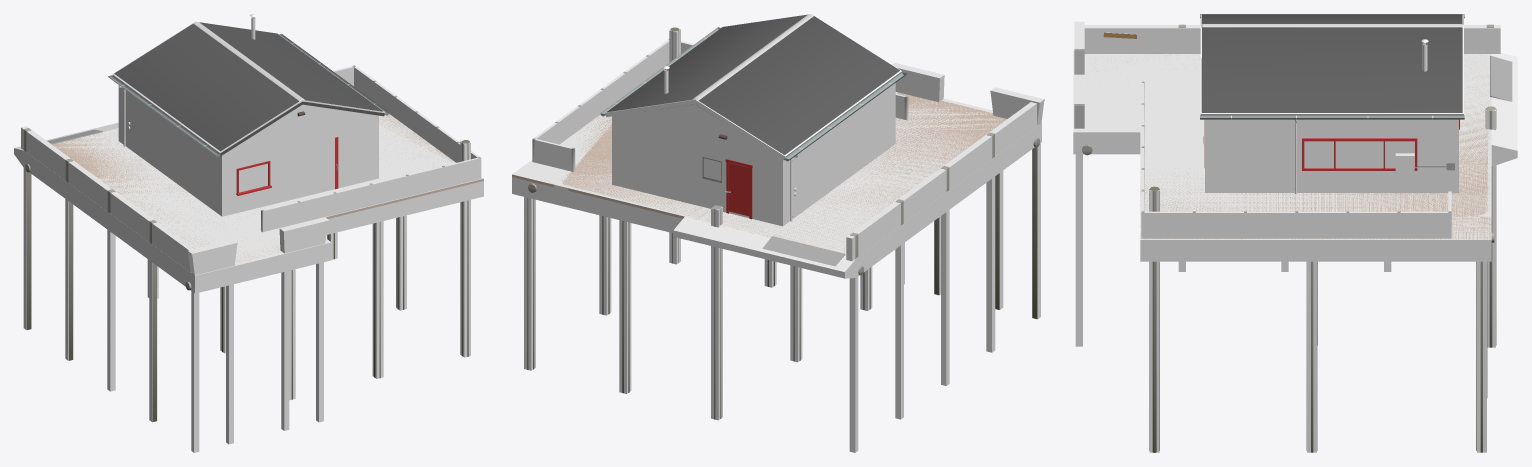
File: eca_bld_fv_house_b.DAE
3 views of the same model, side by side, from view 1: azimuth 30°, elevation 25°; view 2: azimuth 150°, elevation 25°; view 3: azimuth 270°, elevation 25° (orthographic). The views are drawn at different scales.
Parts seen in each view (by area): view 1: Colmesh-1, eca_bld_fv_house_b400, eca_bld_fv_house_b150; view 2: Colmesh-1, eca_bld_fv_house_b400, eca_bld_fv_house_b150; view 3: Colmesh-1, eca_bld_fv_house_b400.
Part boxes in pixels (bbox=[...]): Colmesh-1: bbox=[14, 21, 483, 452]; eca_bld_fv_house_b400: bbox=[24, 14, 483, 421]; eca_bld_fv_house_b150: bbox=[83, 166, 279, 262]; Colmesh-1: bbox=[512, 14, 1044, 452]; eca_bld_fv_house_b400: bbox=[512, 14, 1044, 419]; eca_bld_fv_house_b150: bbox=[865, 95, 966, 213]; Colmesh-1: bbox=[1073, 14, 1517, 452]; eca_bld_fv_house_b400: bbox=[1074, 14, 1512, 452].
Bounding box in the file's own units: 14.25 × 14.01 × 12.19.
